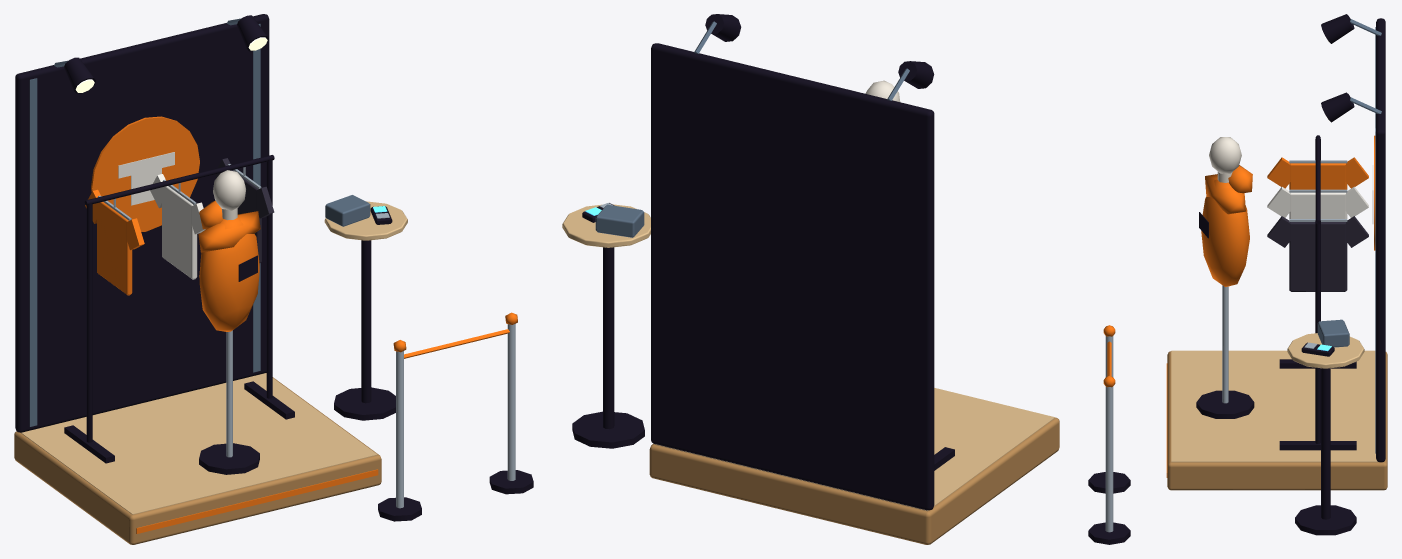
The model's file is station_special_1.glb.
3 renders of one model, left to right at view 1: azimuth 30°, elevation 25°; view 2: azimuth 150°, elevation 25°; view 3: azimuth 270°, elevation 25°, orthographic. The views are drawn at different scales.
Visible parts, largest first — view 1: station_special_1; view 2: station_special_1; view 3: station_special_1.
Boxes of the visible parts, left/top/right/bottom form: station_special_1: left=14, top=14, right=533, bottom=544; station_special_1: left=562, top=14, right=1059, bottom=544; station_special_1: left=1088, top=14, right=1387, bottom=544.
Bounding box in the file's own units: 2.05 × 2.17 × 1.55.
